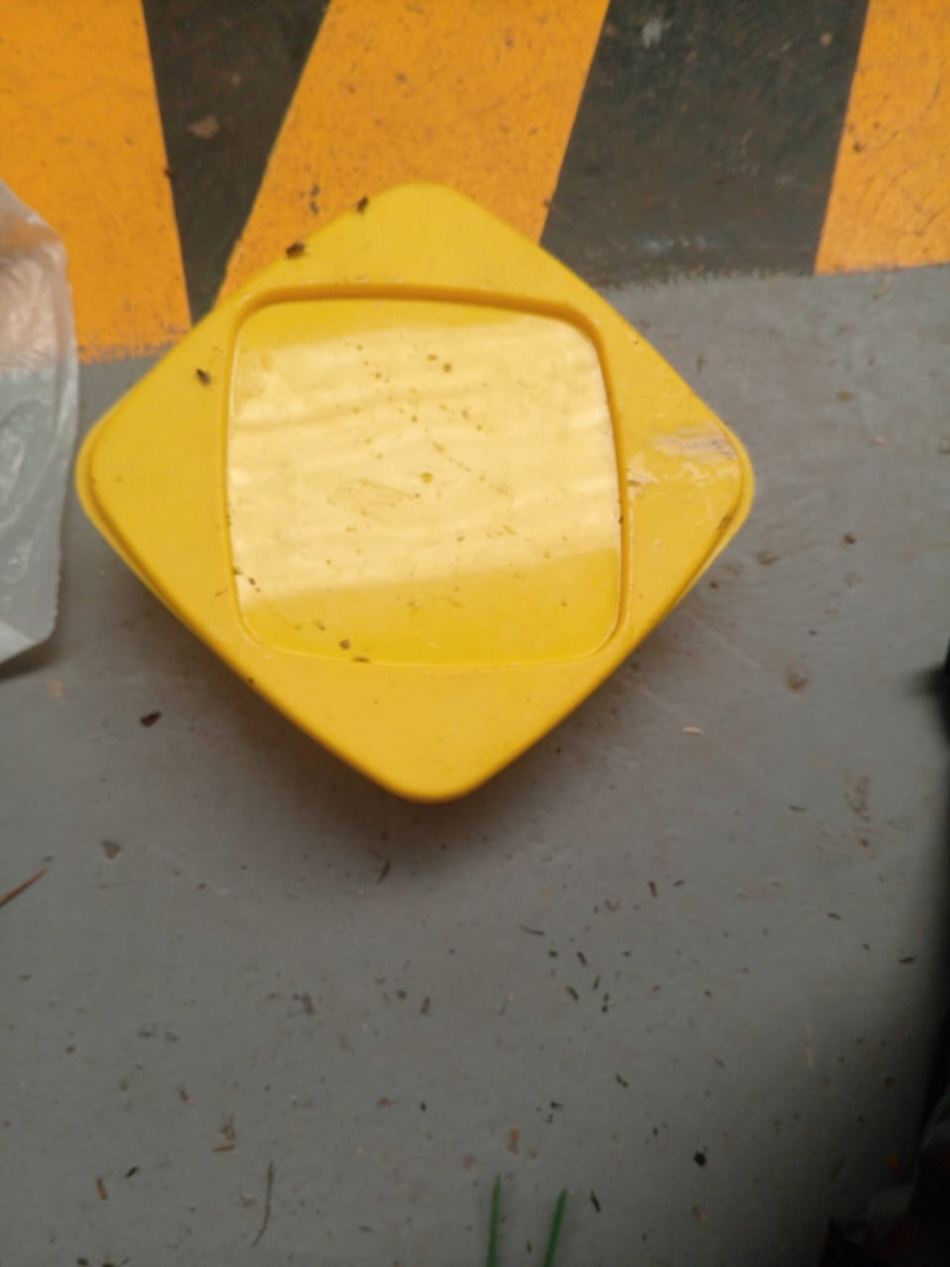Ordinario: (74, 180, 758, 804)
